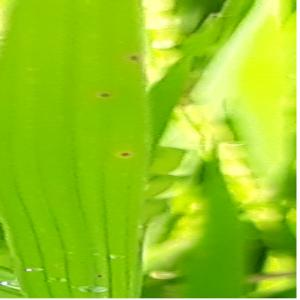0 BrownSpot: (111, 144, 138, 164), (42, 274, 71, 286), (96, 87, 116, 103), (123, 50, 144, 64), (21, 263, 45, 275), (94, 271, 107, 281)
